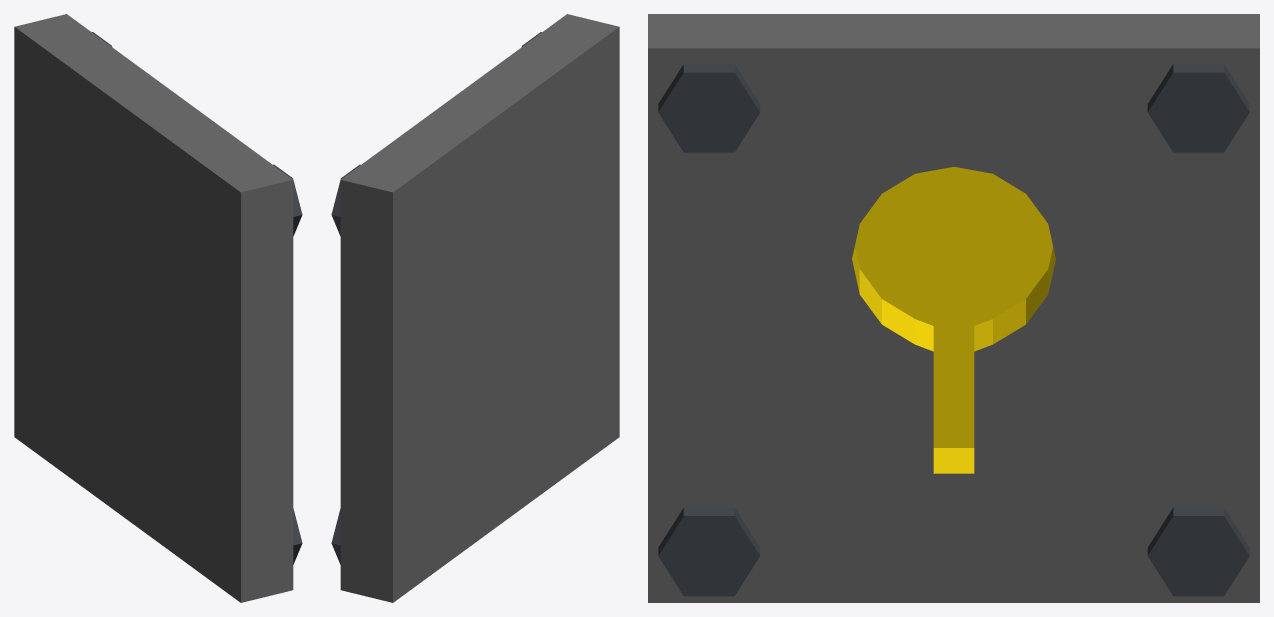
File: keyhole.glb
The picture shows the model from 3 angles, left to right: view 1: azimuth 30°, elevation 25°; view 2: azimuth 150°, elevation 25°; view 3: azimuth 270°, elevation 25°; orthographic projection. The views are drawn at different scales.
Visible parts, largest first — view 1: Cube; view 2: Cube; view 3: Cube.
Boxes of the visible parts, x1,y1,x2,y2 form: Cube: [14, 14, 302, 602]; Cube: [331, 14, 619, 602]; Cube: [648, 14, 1259, 602].
Bounding box in the file's own units: 0.25 × 1.5 × 1.5.
